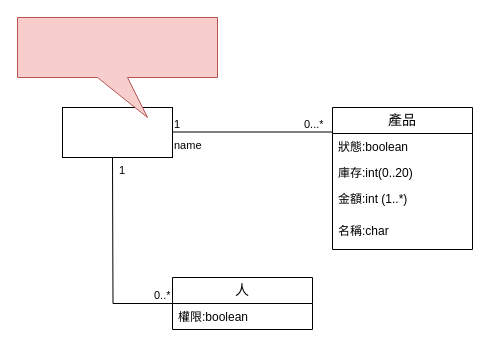
Image size: 490x350. Some labels were removed from this diagram. The shapes that lost their labels are listed below. From the top down, each one's centre as x and y in pixels, then its label:
point (117, 67): 管理員可以上架、下架、調整金額 消費者:選取產品、付費
point (117, 132): 購物網站
